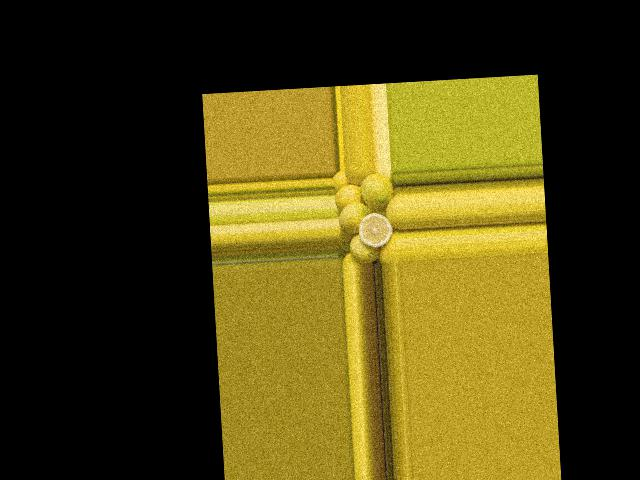lemon: (349, 236, 377, 263)
